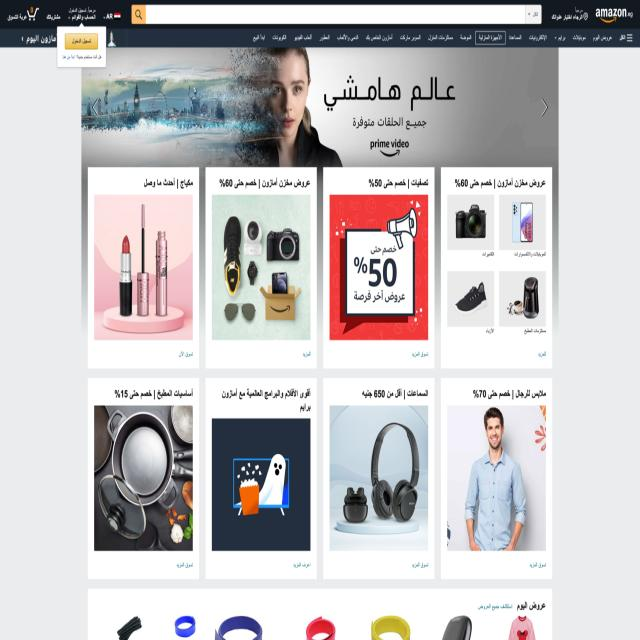input: (132, 3, 542, 26)
logo: (593, 4, 635, 26)
navigation: (250, 30, 636, 47)
